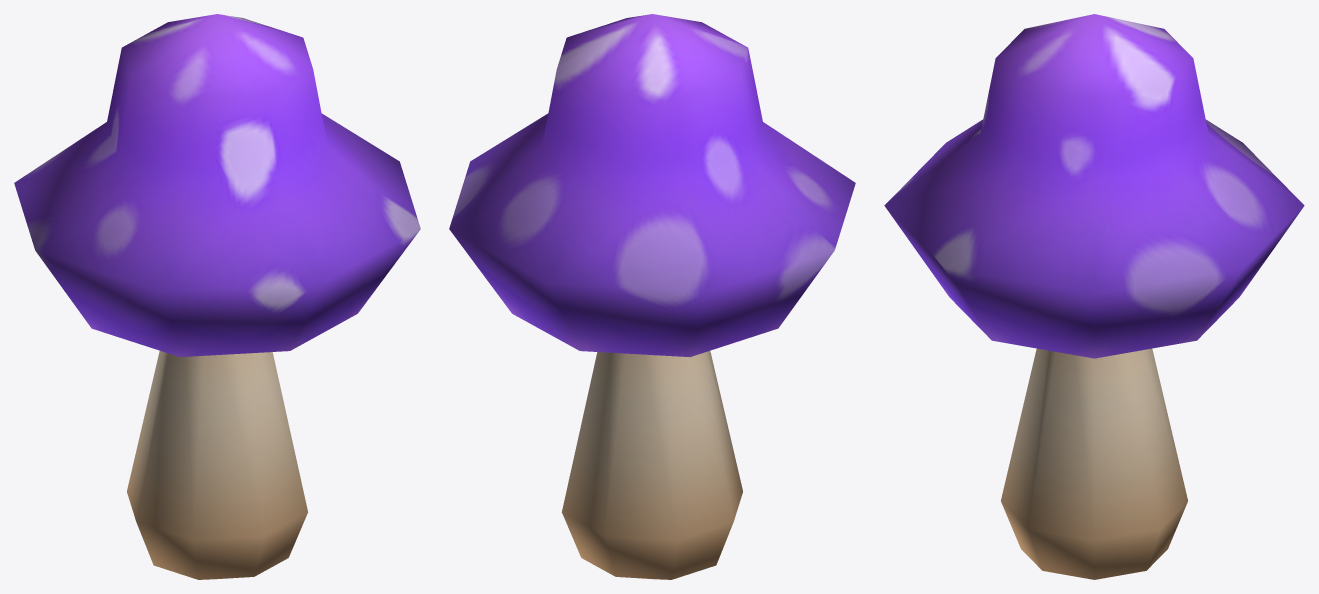
Rendered from MushroomPurple02.FBX.
3 views of the same model, side by side, from view 1: azimuth 30°, elevation 25°; view 2: azimuth 150°, elevation 25°; view 3: azimuth 270°, elevation 25° (orthographic).
Parts seen in each view (by area): view 1: MushroomPurple02; view 2: MushroomPurple02; view 3: MushroomPurple02.
Part boxes in pixels (box(x1,y1,x2,y2)): MushroomPurple02: box(14, 14, 420, 579); MushroomPurple02: box(449, 14, 855, 579); MushroomPurple02: box(884, 14, 1304, 579).
Size of the model in its own units: 81.94 by 121 by 81.94.
